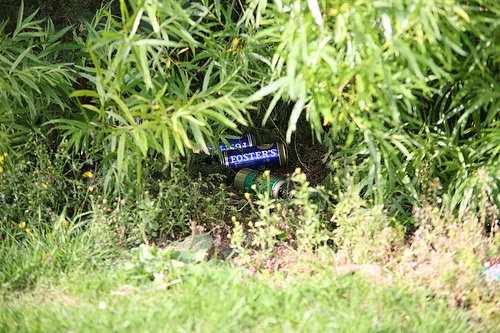litter: (231, 168, 289, 200), (220, 143, 283, 168), (193, 131, 252, 149)
